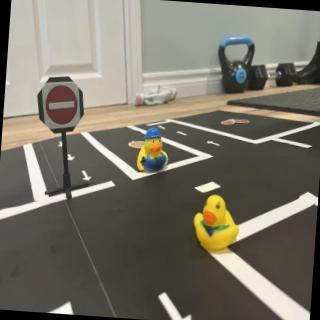duck_regular: (191, 191, 245, 256)
duck_specialty: (136, 125, 172, 176)
road_oneway: (156, 290, 197, 320), (80, 168, 94, 185), (206, 139, 222, 150), (177, 130, 192, 140), (67, 152, 78, 164), (57, 137, 66, 150), (158, 124, 167, 132)
sign_noentry: (41, 80, 85, 133)
